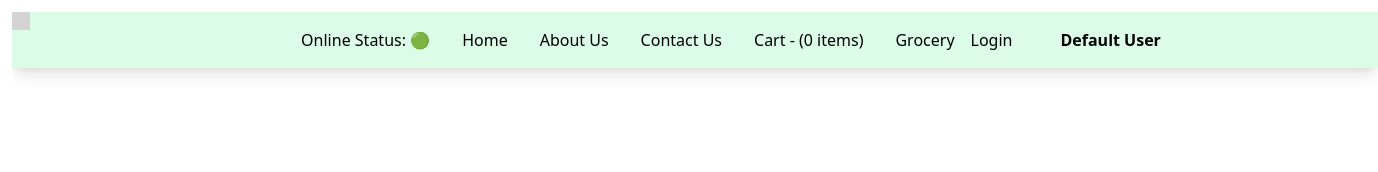
click on login button
Click the button "Login" at (991, 40), box [970, 12, 1012, 68]
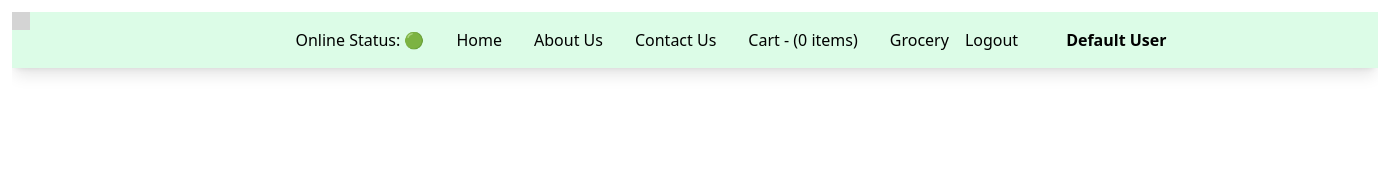
Result: the button "Logout" is shown at [965, 12, 1018, 68]
